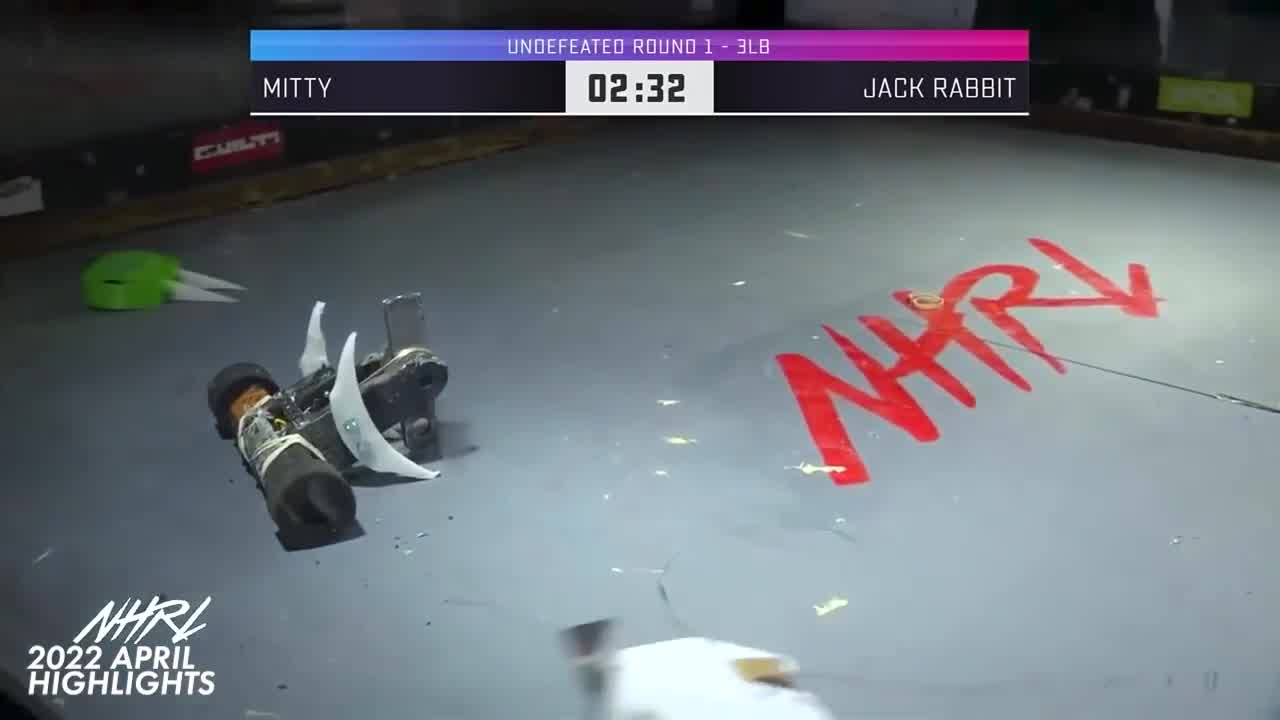combatbot: (204, 293, 447, 543), (550, 620, 841, 715)
minibot: (76, 249, 180, 311)
